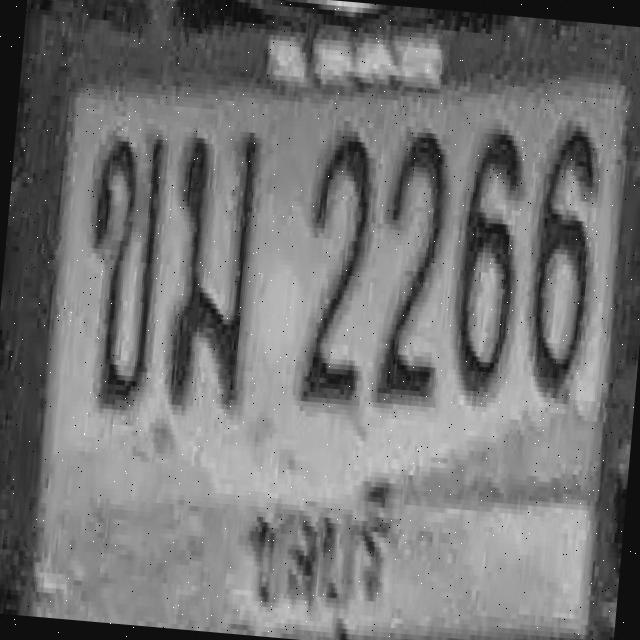11KhorKhai: (75, 129, 168, 412)
2: (294, 125, 378, 408), (371, 125, 454, 407)
42MorMa: (160, 124, 262, 413)
6: (522, 118, 603, 395), (447, 124, 527, 396)
Chonburi: (231, 455, 402, 640)
